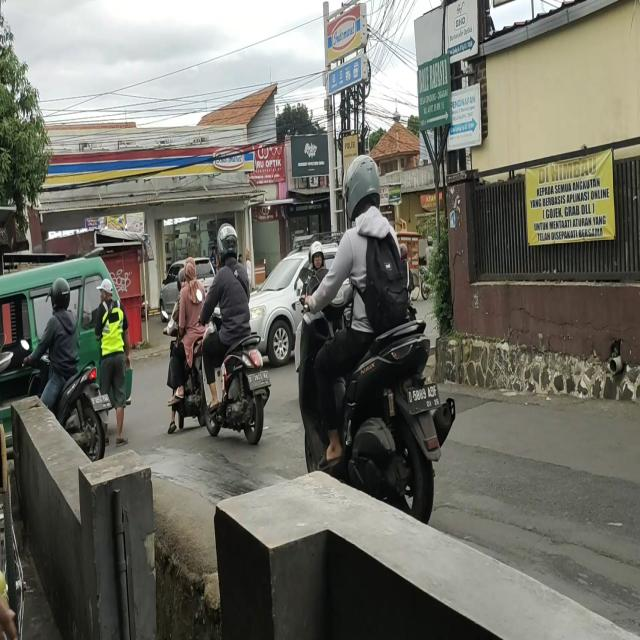helmet: (343, 156, 383, 216), (217, 222, 242, 266), (50, 275, 72, 312), (309, 241, 326, 270), (176, 268, 186, 290)
no-helmet: (184, 255, 198, 285)
